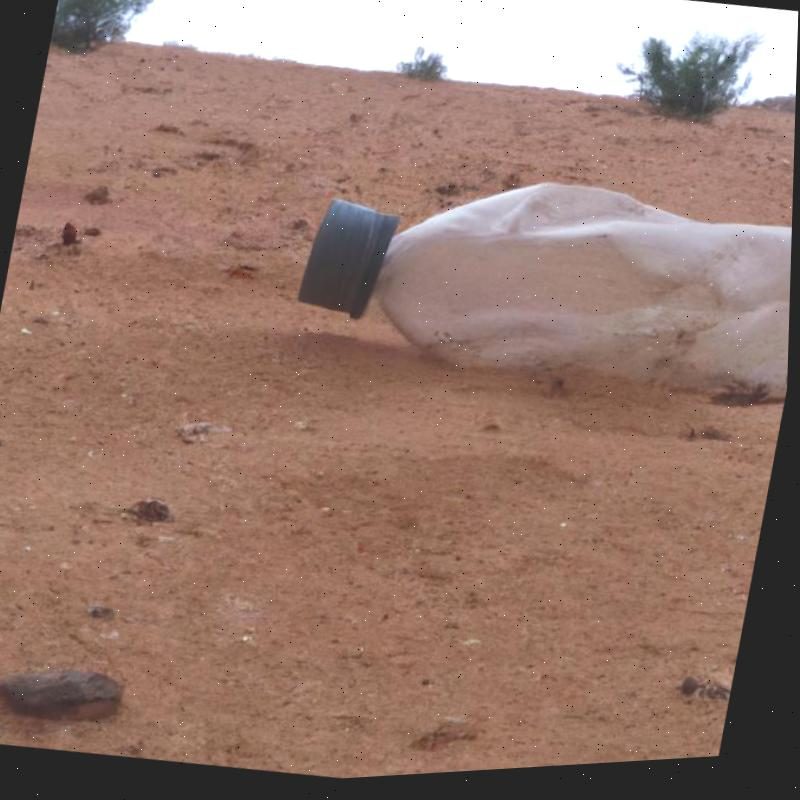botella: (276, 135, 796, 446)
